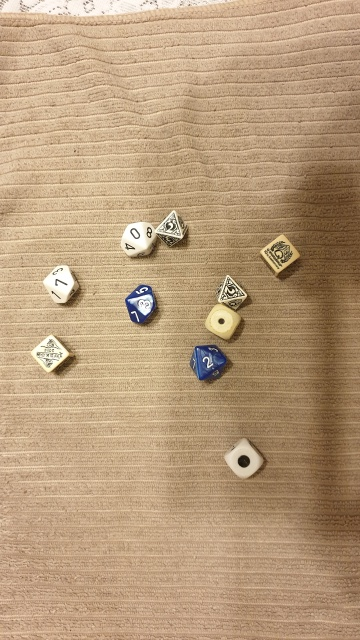d10-10: (115, 219, 156, 262)
d10-2: (185, 342, 229, 387)
d10-3: (125, 281, 161, 329)
d10-7: (40, 259, 81, 308)
d6-1: (221, 434, 267, 485), (200, 302, 245, 346)
d6p-1: (29, 332, 75, 377)
d6p-6: (258, 233, 304, 282)
d8p-2: (154, 206, 191, 252), (210, 273, 252, 312)
